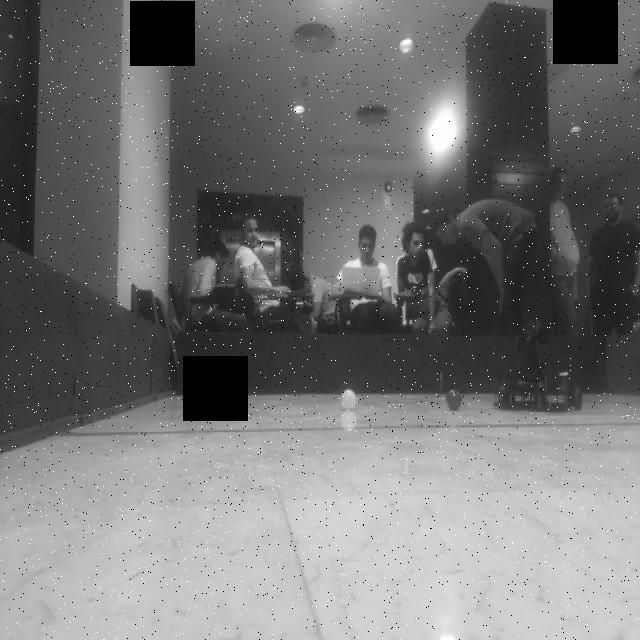ball: (443, 386, 466, 415), (338, 385, 361, 414)
